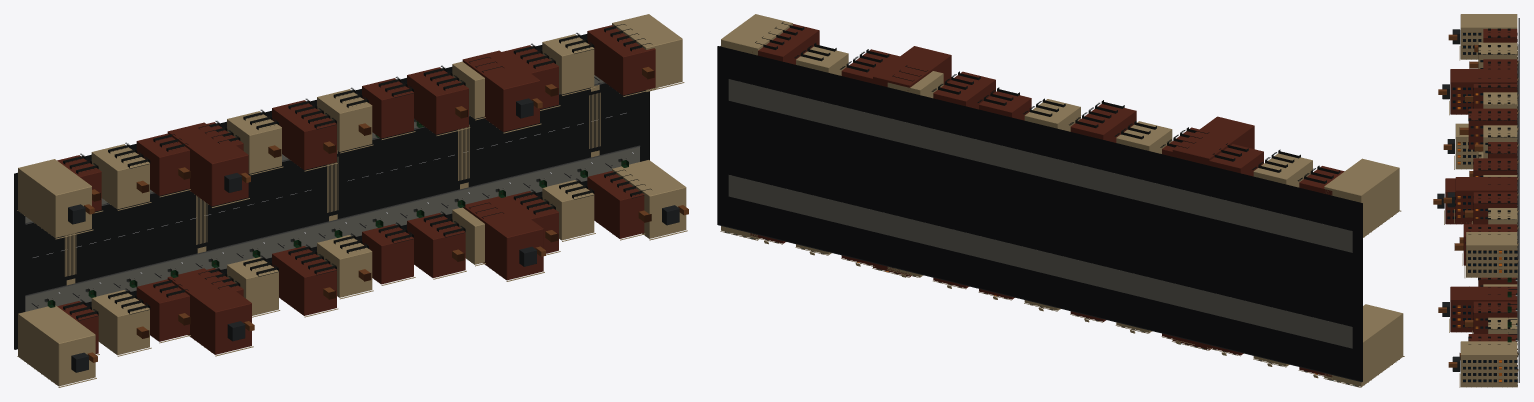
File: residential_avenue.obj
The picture shows the model from 3 angles, left to right: view 1: azimuth 30°, elevation 25°; view 2: azimuth 150°, elevation 25°; view 3: azimuth 270°, elevation 25°; orthographic projection. The views are drawn at different scales.
Size of the model in its own units: 310 by 89.03 by 48.7.
